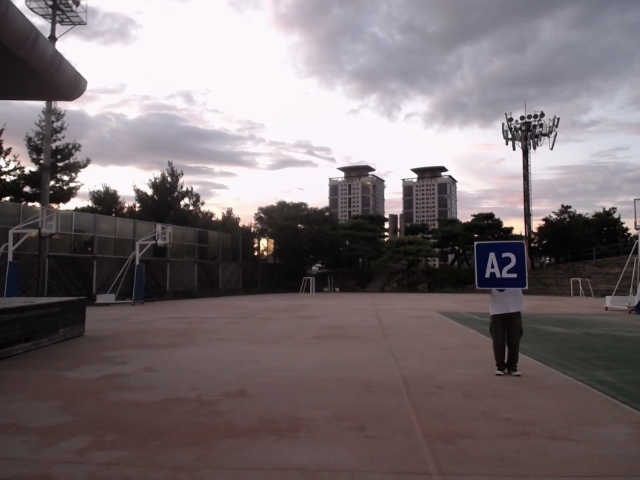delivery_a2: (475, 241, 526, 288)
